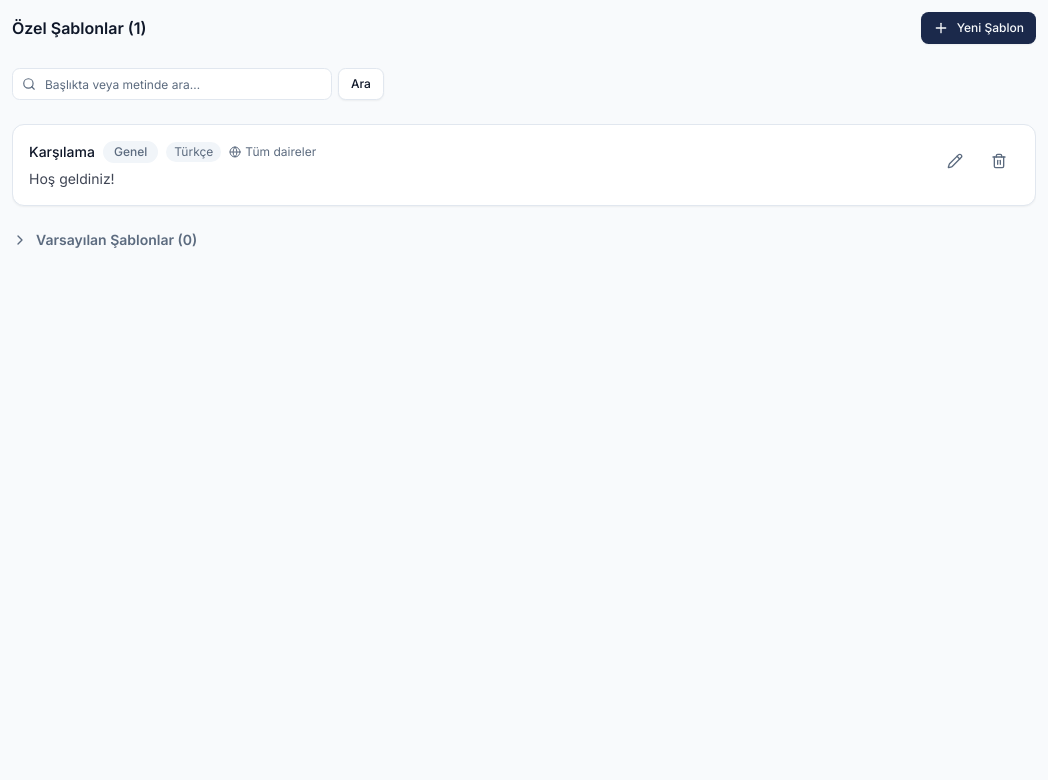
şablon düzenleme — tam metin ayrı okumadan, sürüm ön şartı (H1) › kaydettikten sonra (liste henüz yenilenmeden) yeniden açılan şablon TAZE okumanın sürümünü gönderir
Later steps or results of the test are not shown.
Step 1. Click the button named "Düzenle" → point(955, 161), box [935,141,975,181]
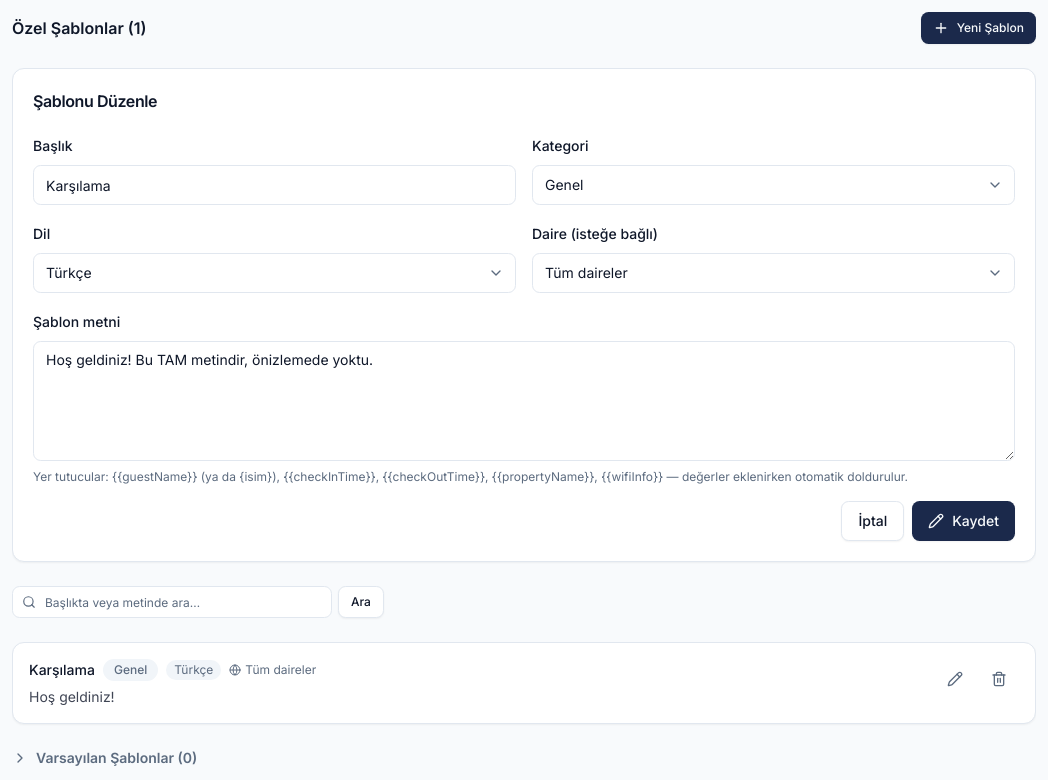
Step 2. Click the button "Kaydet" → point(964, 521), box [912,501,1015,541]
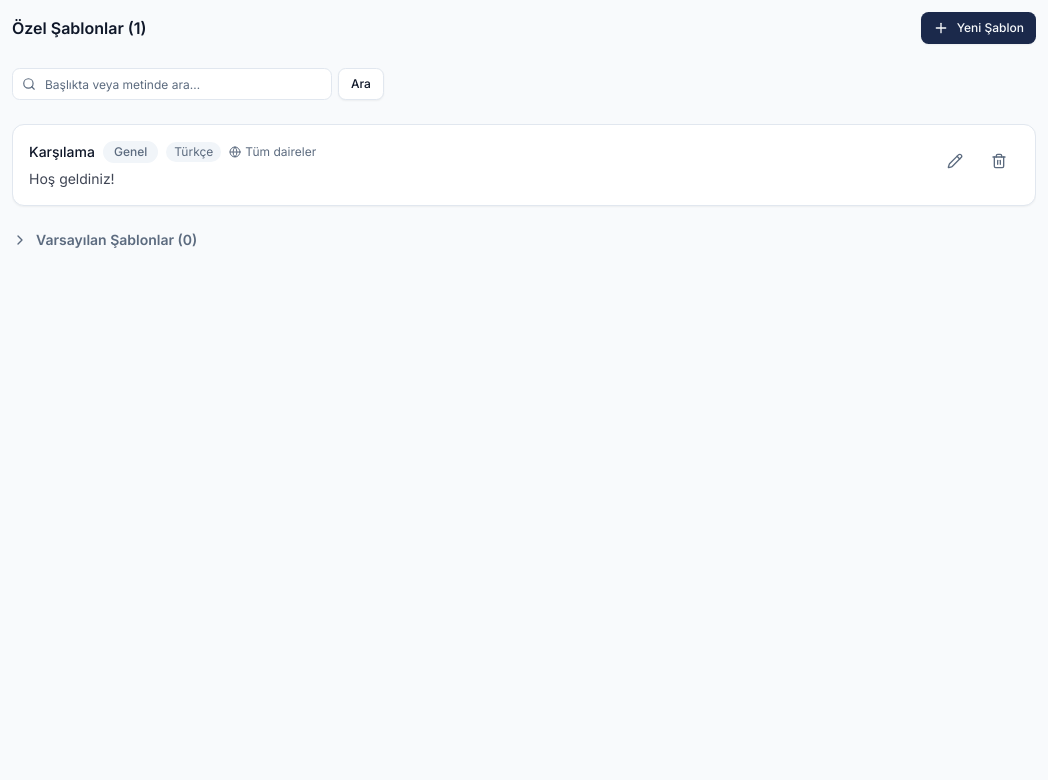
Step 3. Click the button named "Düzenle" → point(955, 161), box [935,141,975,181]
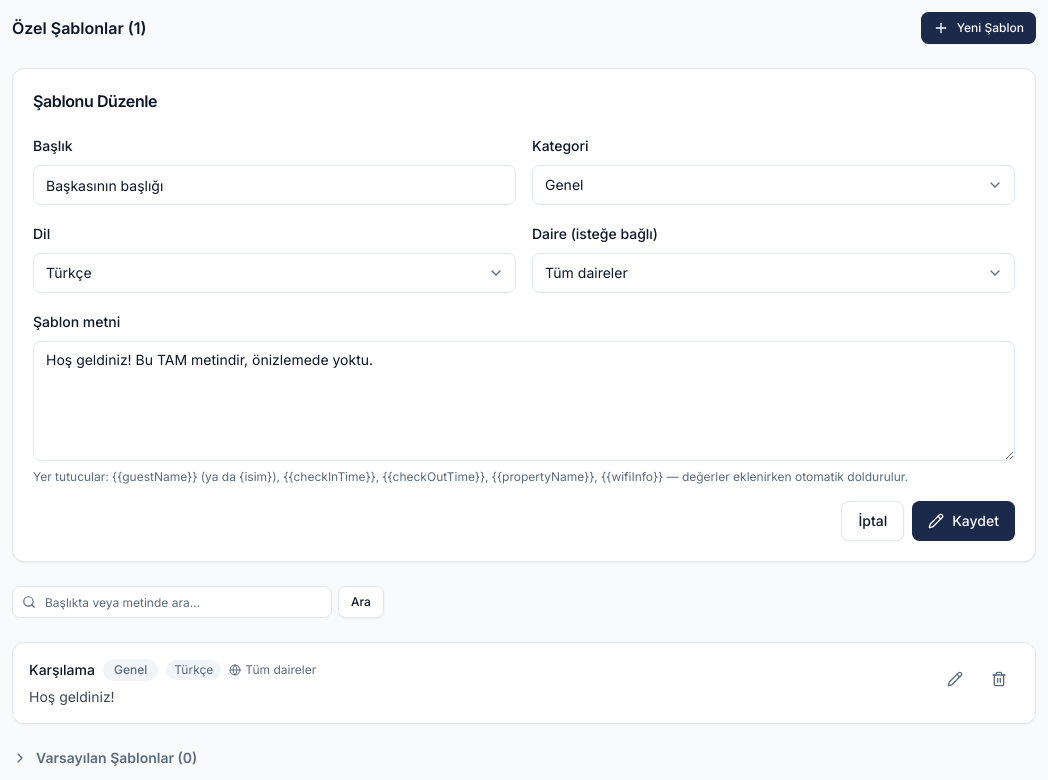
Check: the field labelled "Başlık" holds "Başkasının başlığı", box [33,165,516,205]
